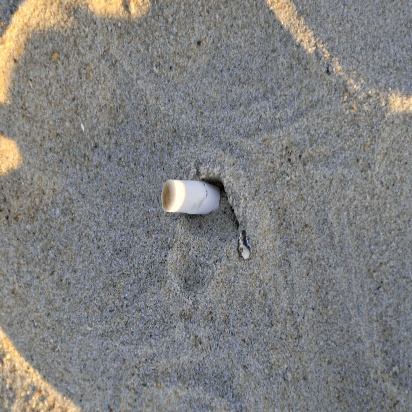cigarette: (151, 177, 227, 223)
